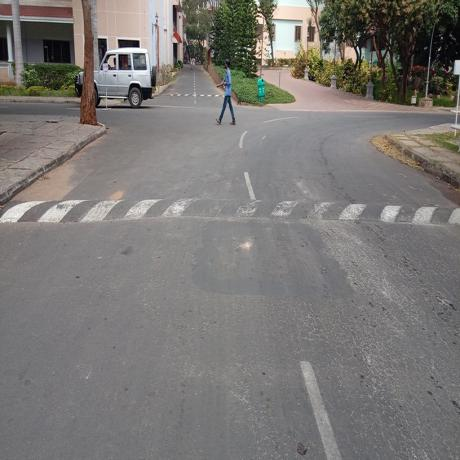Speed Bump: (0, 194, 459, 227)
